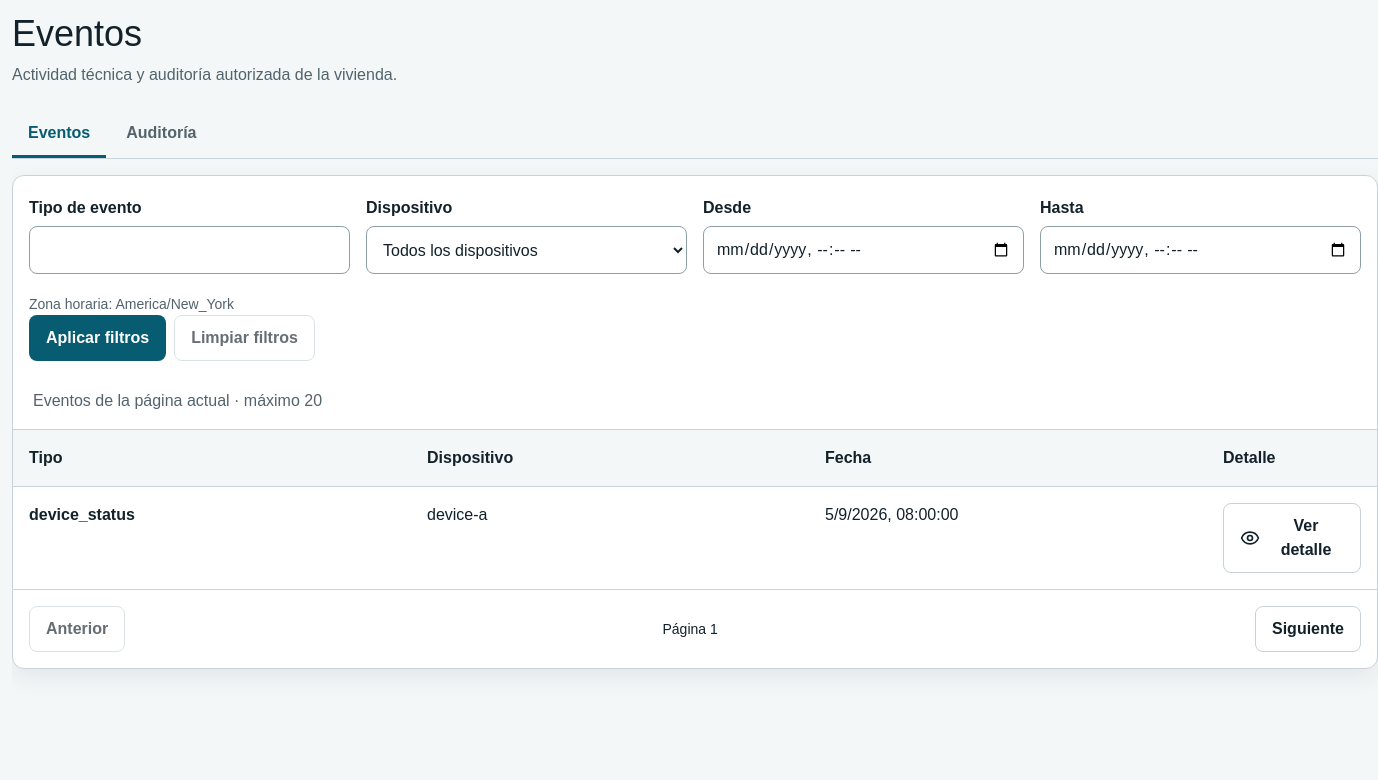
Scenario: Eventos y auditoría › keeps an invalid audit boundary in its modal-free filter for correction
Expected: the column heading "device_status" is shown, [13,487,411,589]
Click the tab "Auditoría": (161, 135) [110,111,212,158]
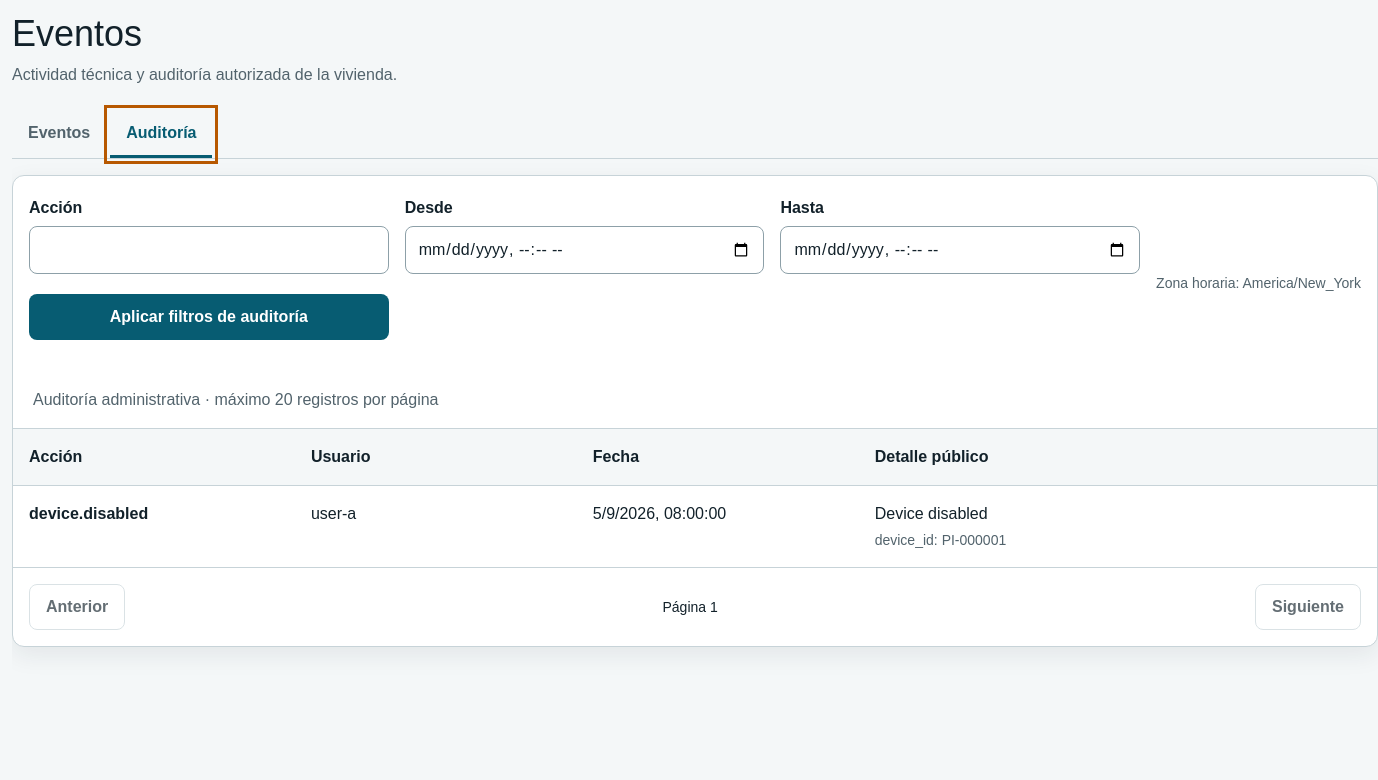
Expected: the column heading "device.disabled" is shown, [13,486,295,567]
In the field labelled "Desde": (585, 250) [405,226,764,274], type "2026-03-08T02:30"
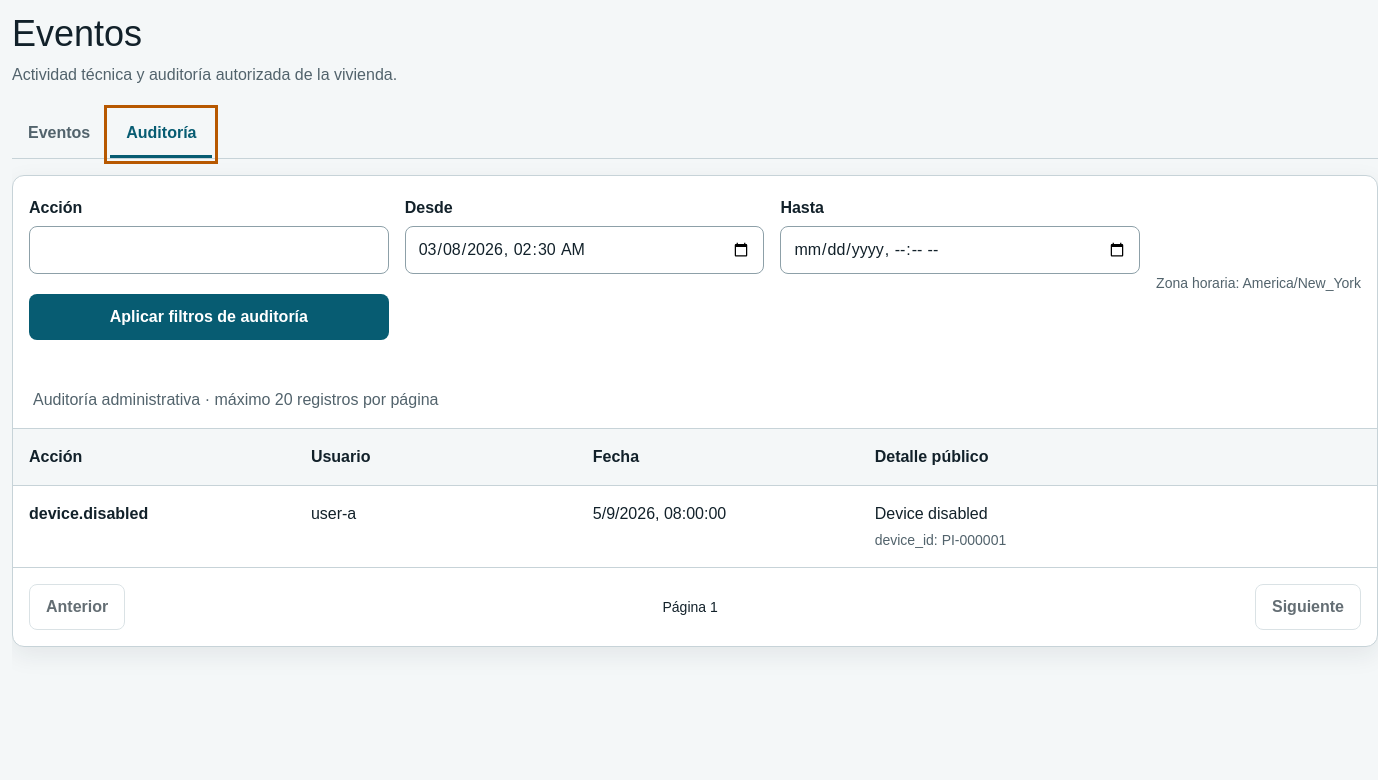
Click the button "Aplicar filtros de auditoría": (209, 317) [29,294,389,340]
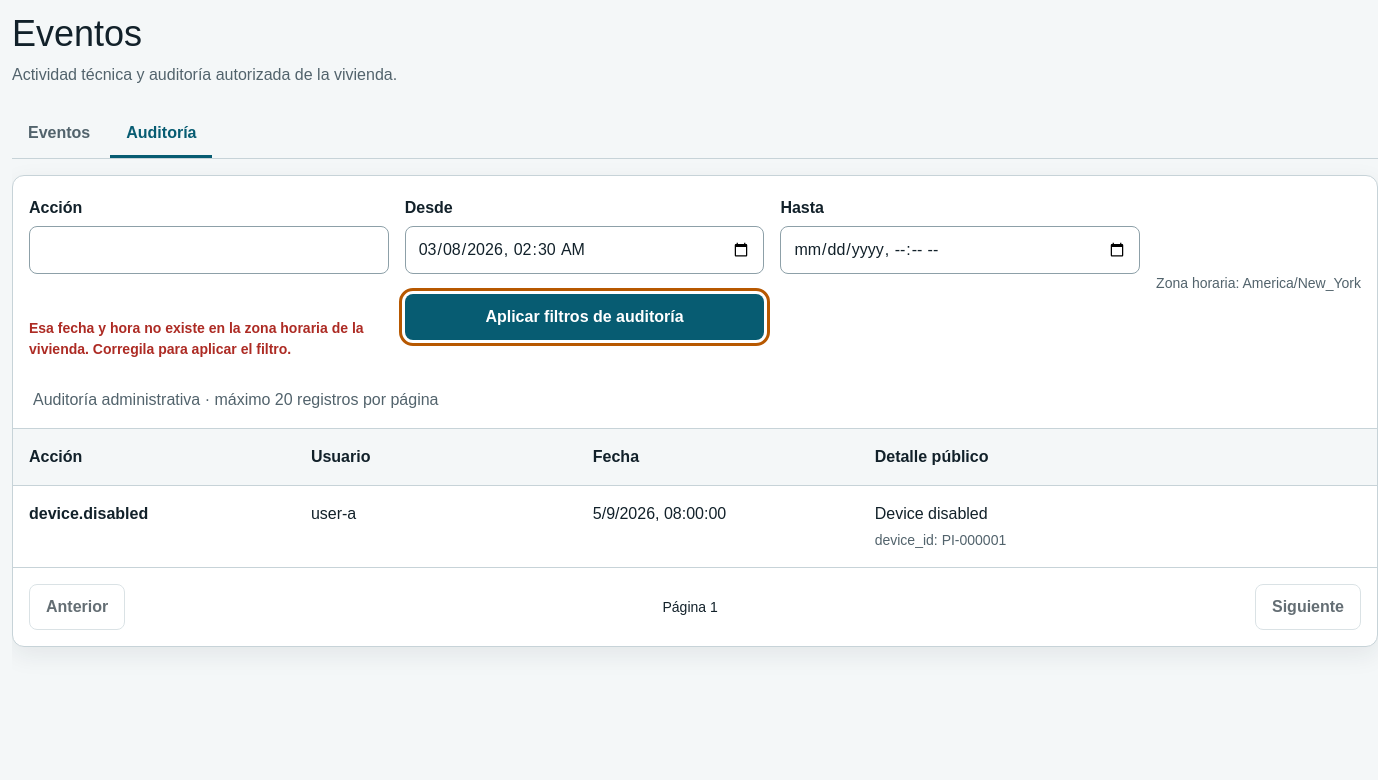
Expected: the message shows "no existe en la zona horaria", [29,320,364,357]
